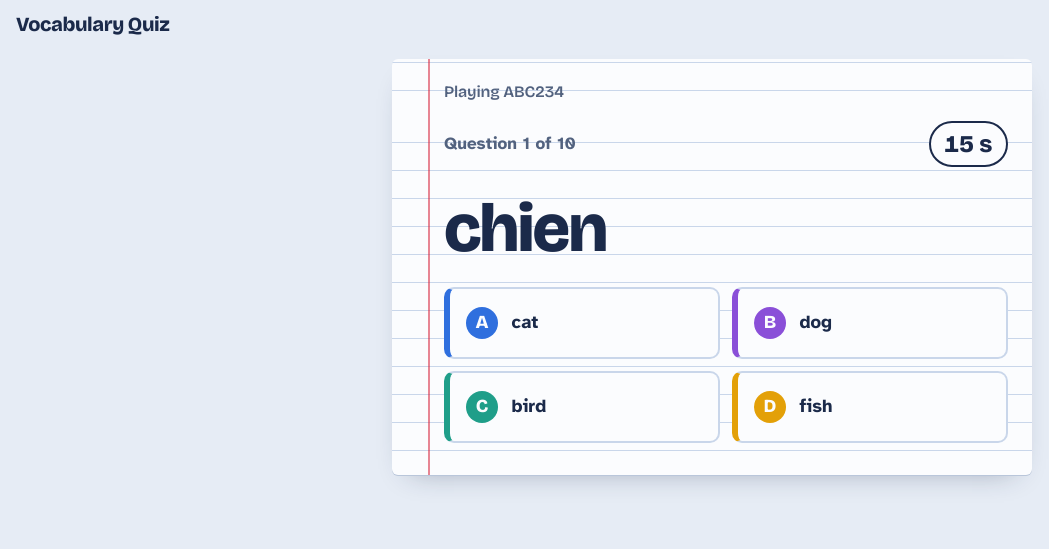
Player view (AC32) › shows the reason when an answer is rejected
Click the button "cat".
click(525, 322)  # box [444,287,720,359]
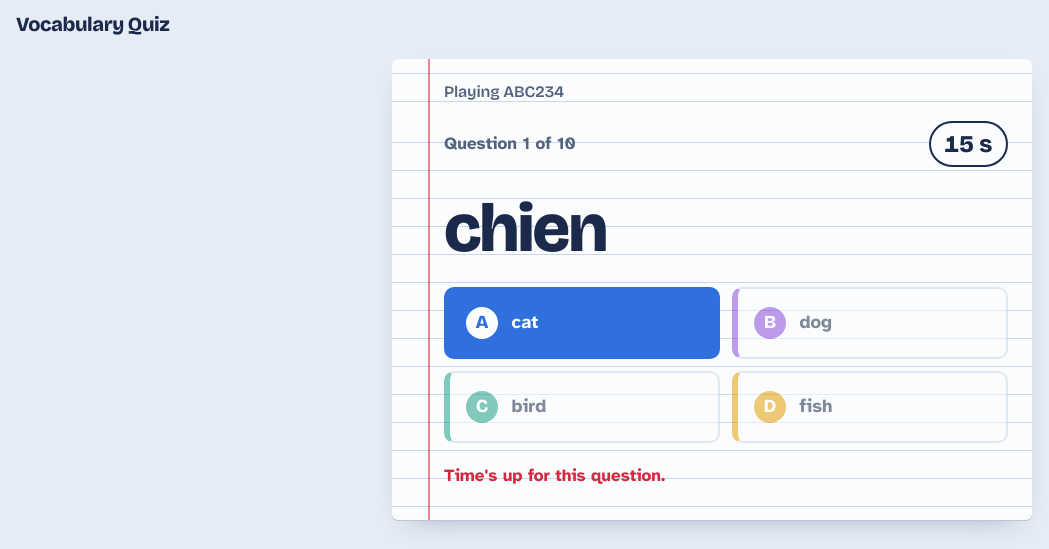
Now the message reads "Time's up for this question.", box [444,465,665,486]
